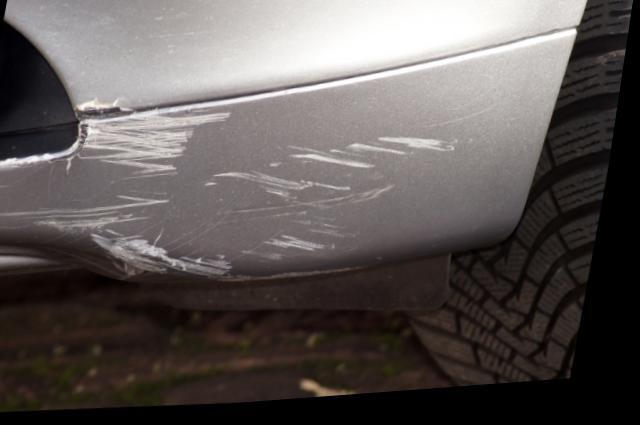scratch: (0, 109, 468, 287)
